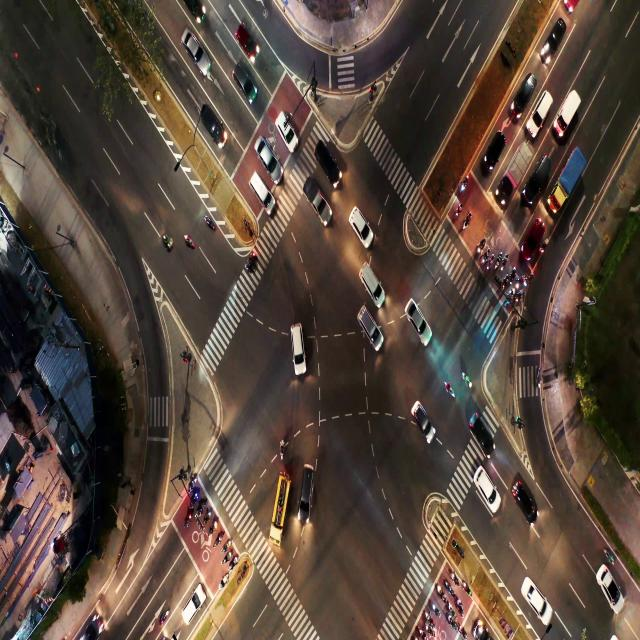bus: (276, 492, 284, 513)
car: (526, 586, 546, 613), (597, 570, 617, 596), (187, 38, 204, 61), (237, 23, 253, 47), (301, 472, 311, 509), (409, 306, 424, 330), (516, 485, 530, 508), (207, 107, 217, 136), (254, 137, 269, 156), (362, 313, 374, 336), (418, 412, 431, 432), (478, 466, 488, 492), (251, 171, 262, 194), (529, 224, 539, 249), (320, 147, 331, 168), (238, 67, 248, 89), (189, 3, 204, 17), (478, 422, 488, 443), (550, 28, 560, 48), (188, 597, 196, 620), (366, 272, 375, 290), (278, 112, 286, 130), (294, 330, 302, 348), (490, 141, 498, 157), (520, 85, 528, 101), (537, 166, 543, 186), (83, 630, 95, 640), (353, 214, 362, 227), (540, 99, 546, 118)
motorcycle: (463, 371, 473, 392), (278, 440, 288, 460), (443, 383, 454, 399), (247, 256, 256, 272), (462, 582, 472, 596), (186, 233, 195, 248), (204, 217, 215, 229), (606, 549, 615, 561), (537, 372, 543, 388), (220, 576, 227, 588), (163, 236, 171, 246), (431, 601, 437, 614), (522, 277, 528, 289), (184, 514, 190, 525), (516, 293, 522, 304), (460, 180, 466, 190), (416, 625, 422, 635), (436, 586, 442, 594), (204, 513, 209, 522), (424, 611, 430, 618), (464, 220, 468, 230), (446, 581, 450, 591), (208, 526, 214, 532), (478, 242, 482, 251), (458, 598, 462, 607), (448, 602, 452, 611), (161, 614, 166, 621), (451, 572, 456, 579), (192, 494, 196, 502), (199, 505, 203, 513), (456, 207, 460, 215), (482, 254, 486, 262), (447, 614, 451, 622), (516, 279, 519, 289), (459, 626, 464, 632), (216, 536, 220, 543), (190, 479, 193, 488), (542, 242, 545, 251), (487, 261, 490, 270), (509, 292, 512, 301), (224, 542, 227, 550), (426, 626, 430, 632), (500, 264, 503, 271), (230, 561, 234, 566), (510, 273, 512, 283), (224, 555, 227, 561), (495, 261, 498, 267), (503, 280, 505, 287)
truck: (561, 106, 576, 129), (306, 188, 321, 208), (566, 164, 576, 194), (515, 161, 522, 176)
